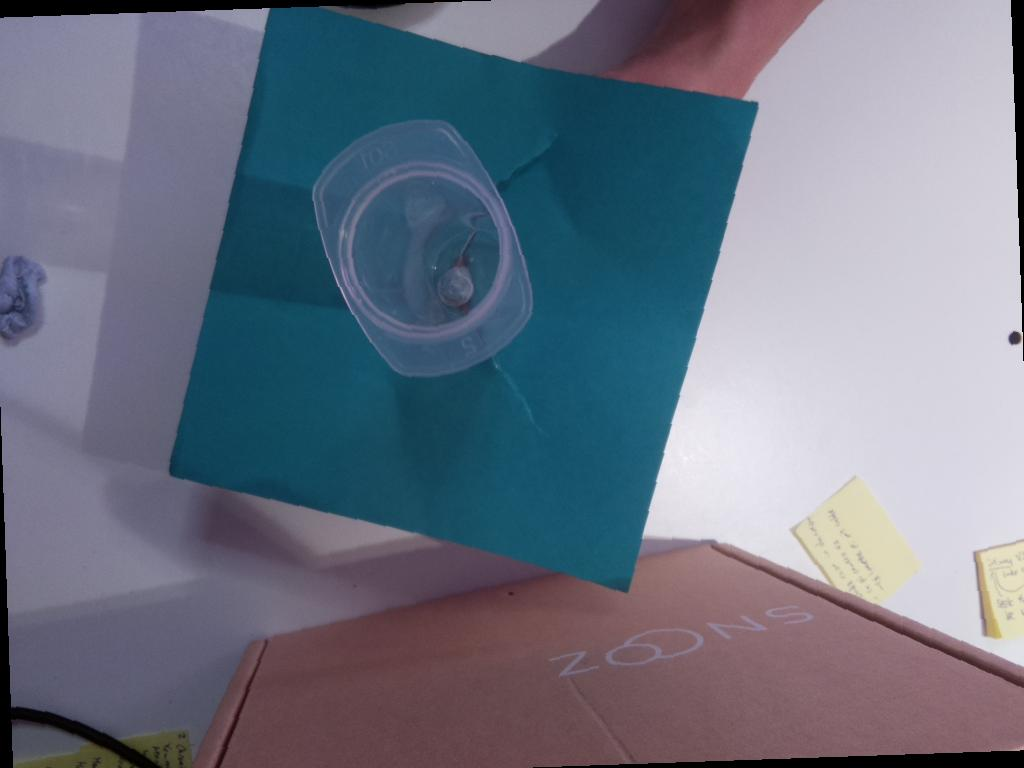clean: (313, 116, 533, 379)
